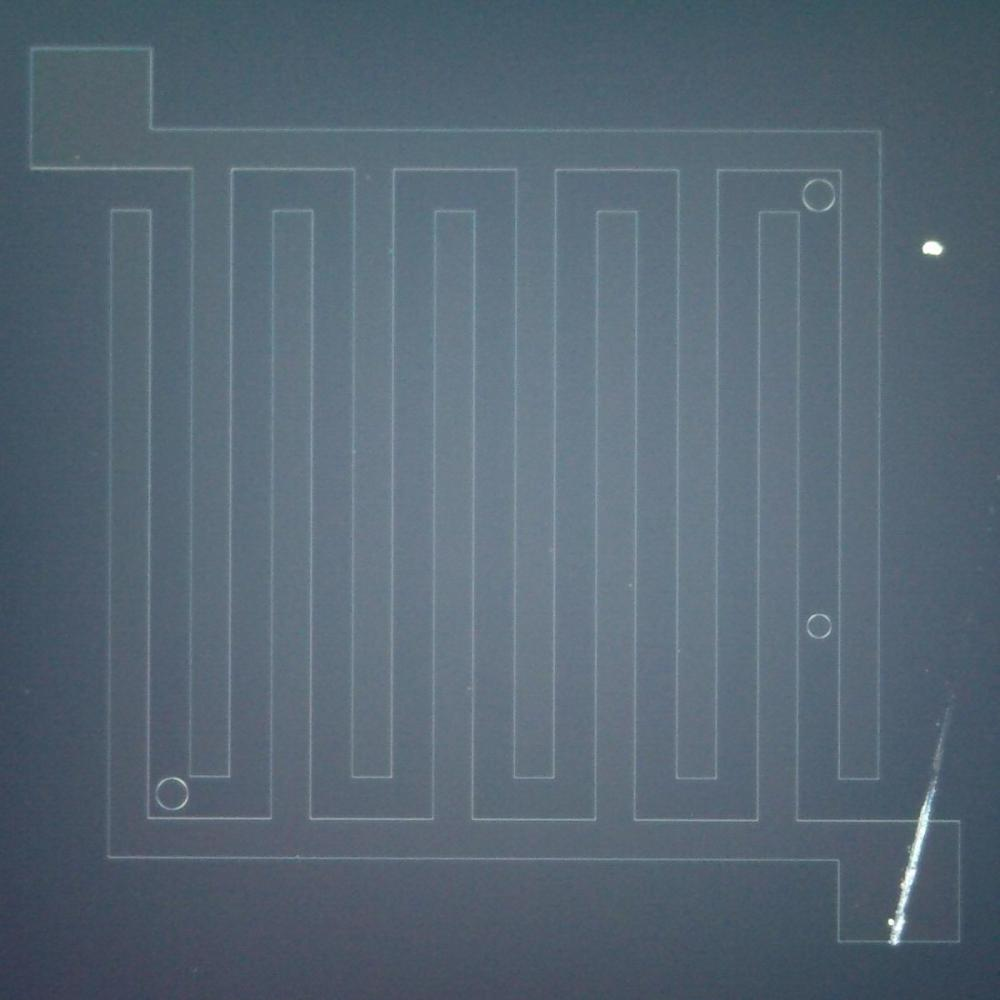circle: (799, 176, 838, 214), (153, 775, 190, 814), (804, 611, 835, 642)
scratch: (885, 787, 940, 947)
spot: (912, 231, 951, 264)
